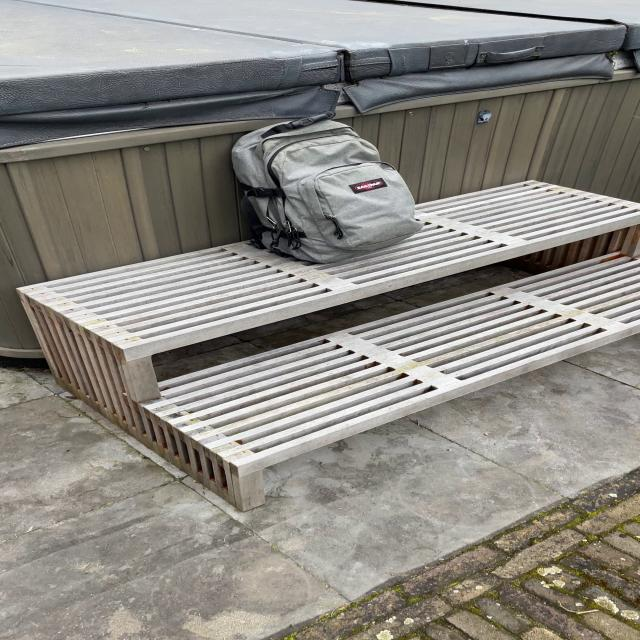backpack: (222, 114, 430, 266)
